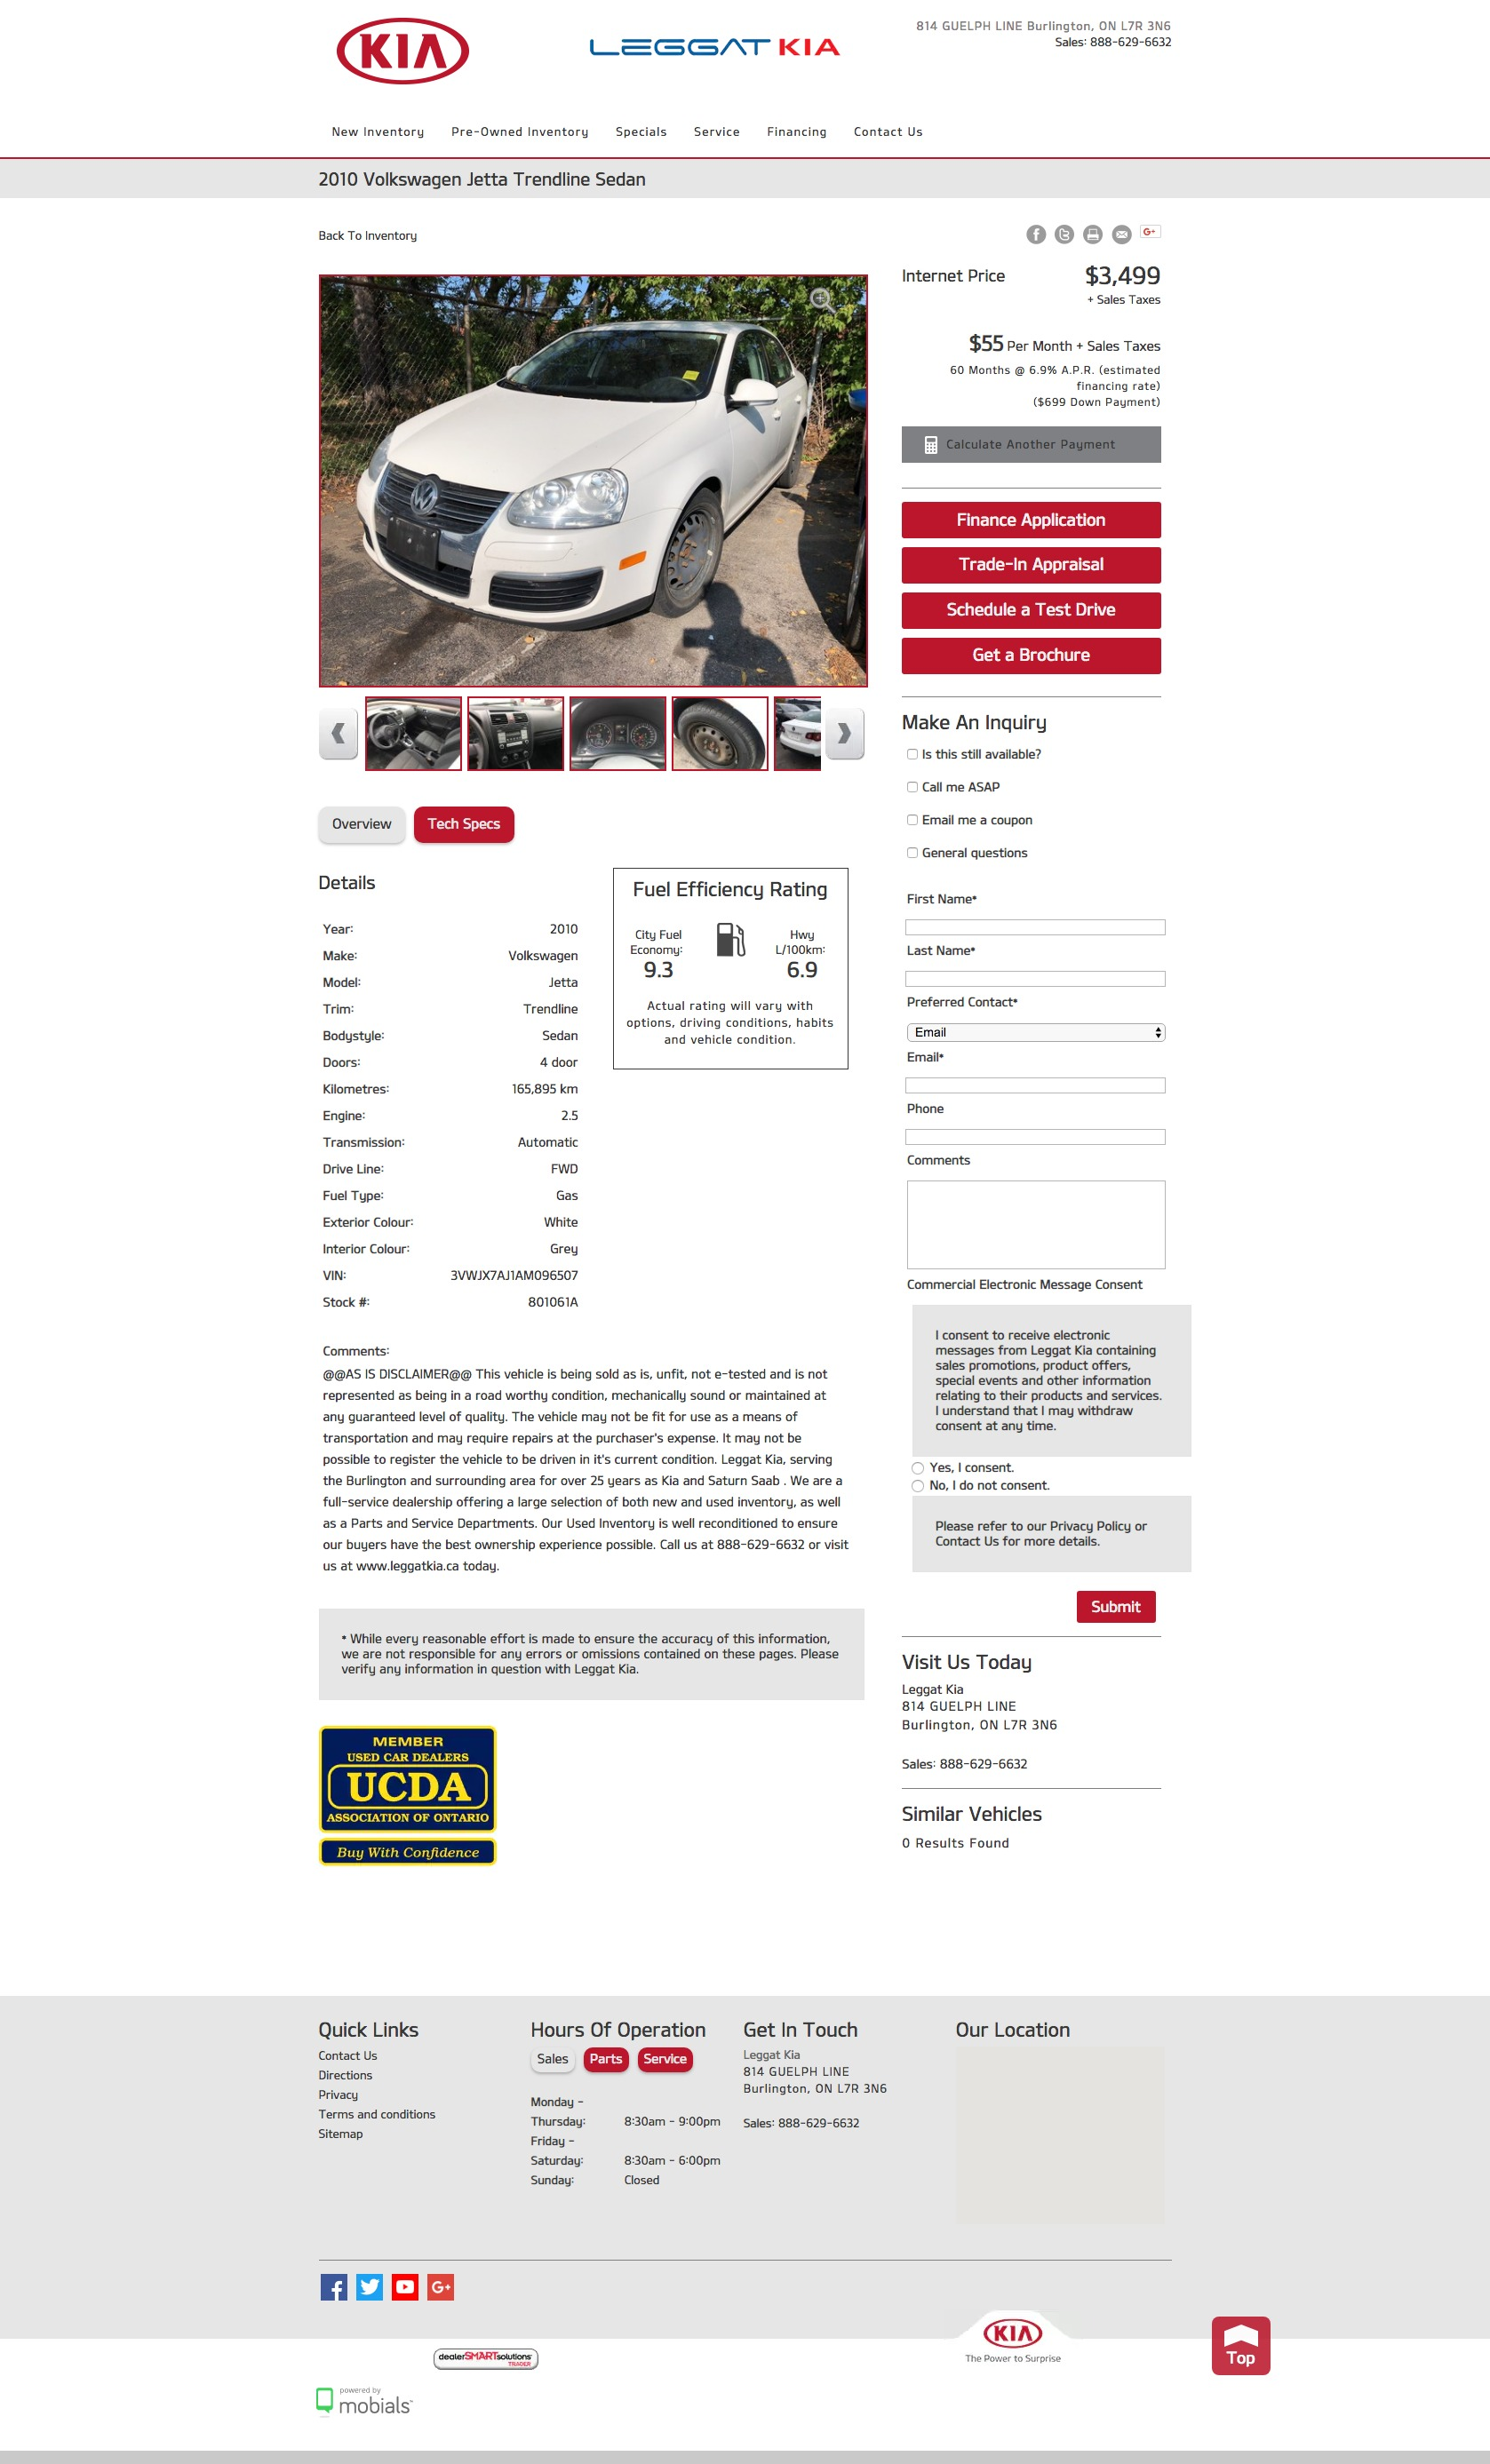car: (826, 708, 867, 762)
